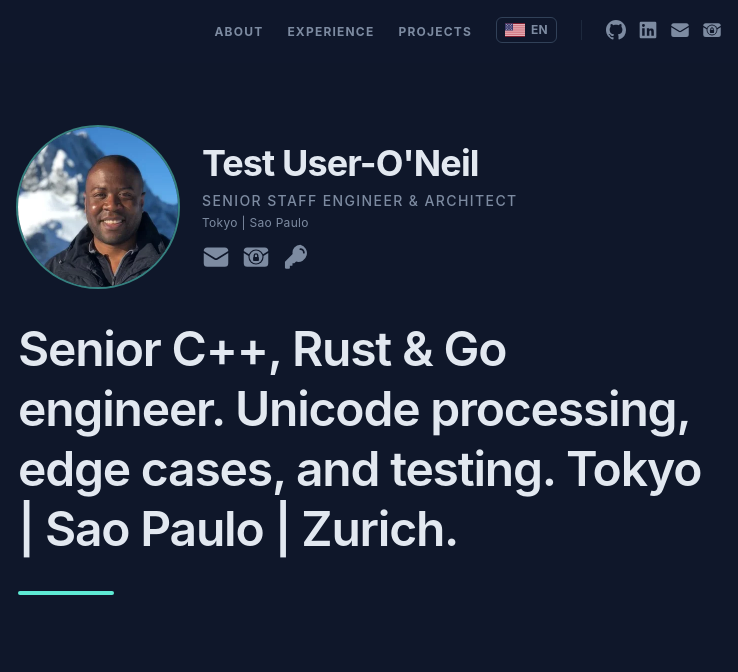
Test case: i18n Integration - Language Selector Flow › should switch to Russian via dropdown
What coordinates should you click on to do the following:
click the button named "select language"
I would click on:
 (526, 30)
Its box is top-left (496, 17), bottom-right (557, 43).
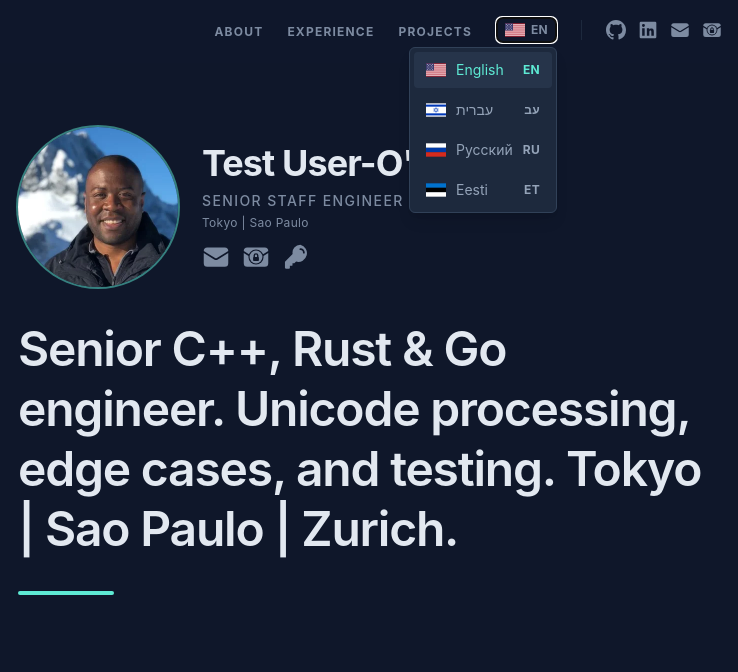
What coordinates should you click on to do the following:
click the link "Русский RU"
I would click on:
 (483, 150)
Its box is top-left (426, 141), bottom-right (540, 158).
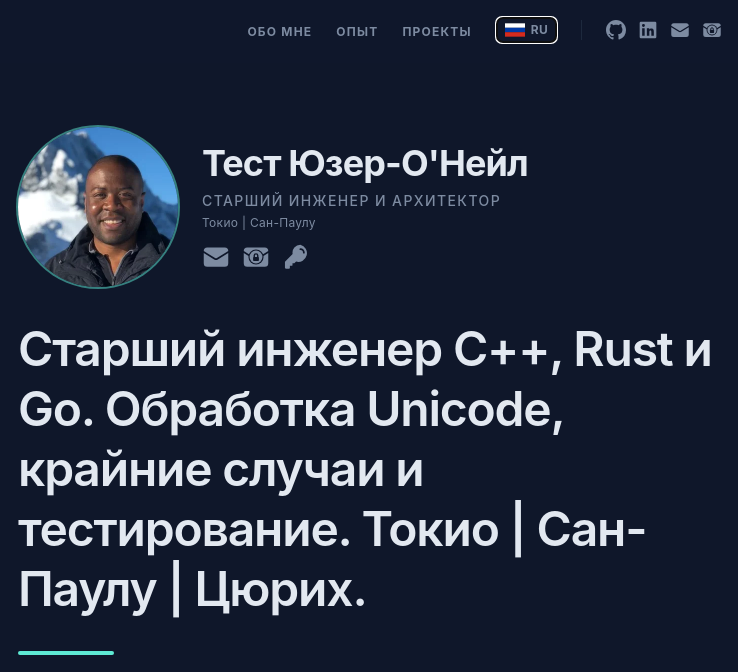
Expected: the link "Обо мне" is shown, top-left (247, 24), bottom-right (312, 39)
Expected: the link "Опыт" is shown, top-left (336, 24), bottom-right (378, 39)
Expected: the link "Проекты" is shown, top-left (402, 24), bottom-right (472, 39)
